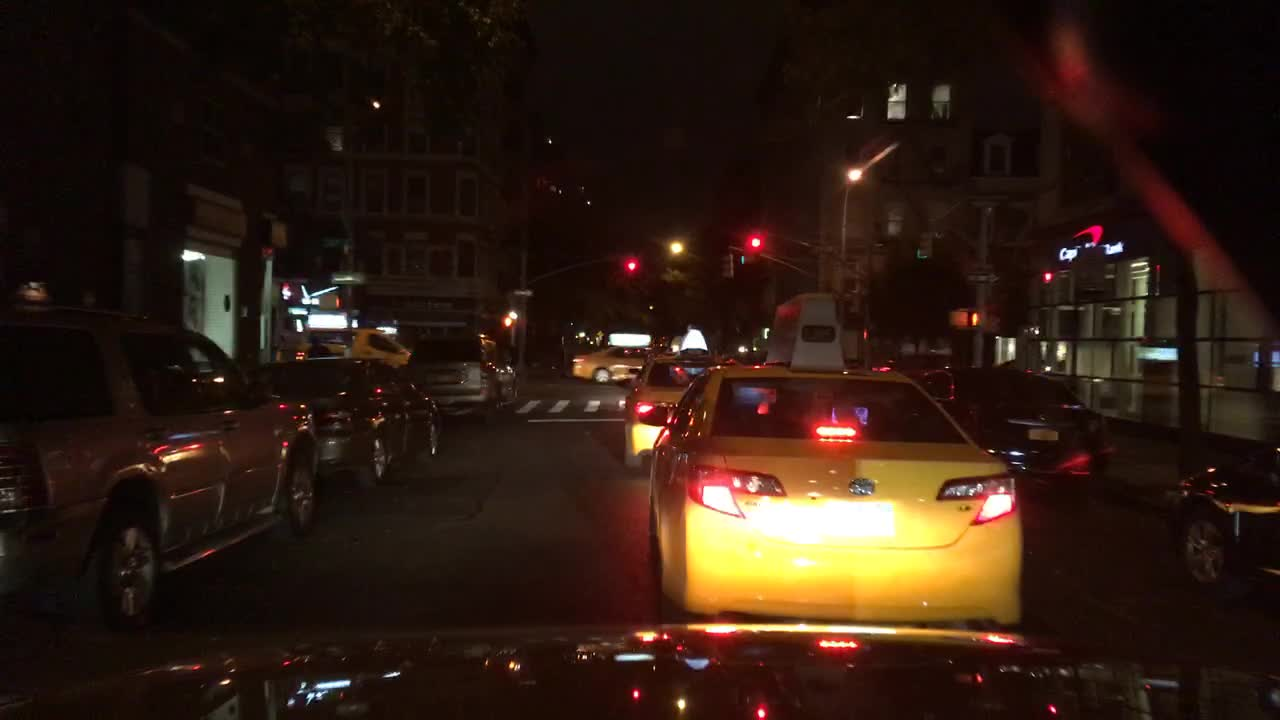car: (638, 289, 1026, 634), (1, 284, 320, 650), (900, 361, 1115, 491), (250, 354, 439, 500), (1153, 438, 1277, 614), (620, 325, 735, 476), (402, 338, 519, 422), (288, 326, 416, 368), (565, 338, 671, 384), (740, 238, 752, 266)
traffic light: (915, 228, 932, 257), (319, 293, 338, 310), (279, 282, 299, 298), (948, 311, 968, 324), (1041, 261, 1053, 282), (965, 311, 980, 327), (721, 250, 730, 272), (625, 251, 634, 272), (751, 228, 761, 244), (509, 305, 519, 321), (504, 315, 511, 328)
traffic sign: (327, 274, 365, 286), (313, 235, 347, 248), (509, 287, 535, 298)
